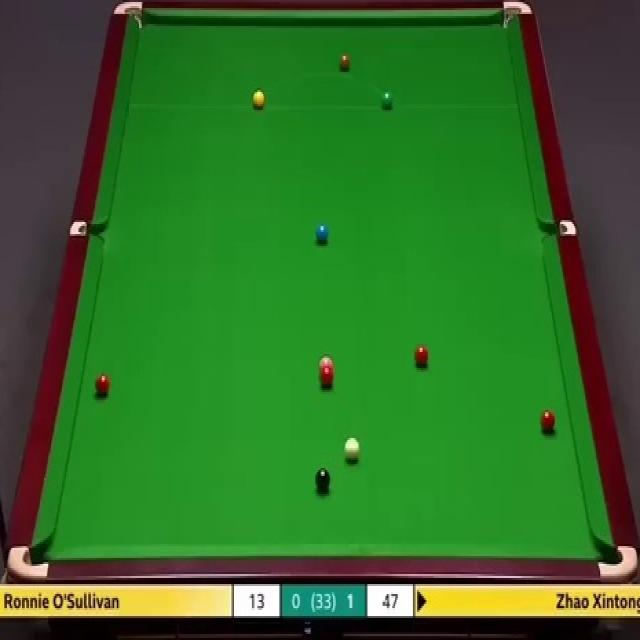pocket: (7, 545, 49, 581), (596, 547, 638, 582), (502, 1, 530, 24), (113, 1, 142, 22), (542, 221, 575, 237), (71, 220, 101, 237)
